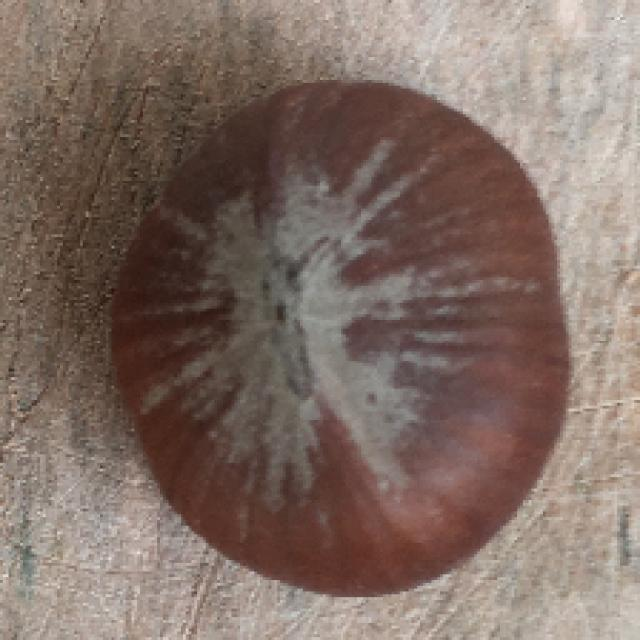damagedHazelnut: (109, 83, 576, 602)
